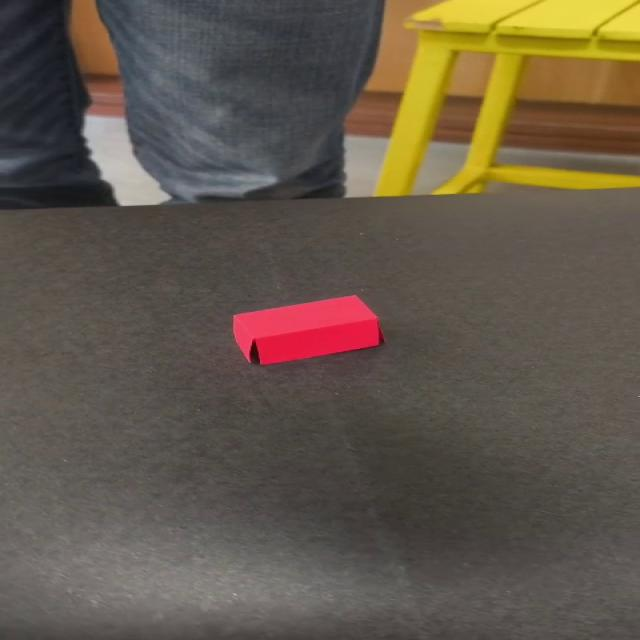red block: (231, 293, 384, 366)
